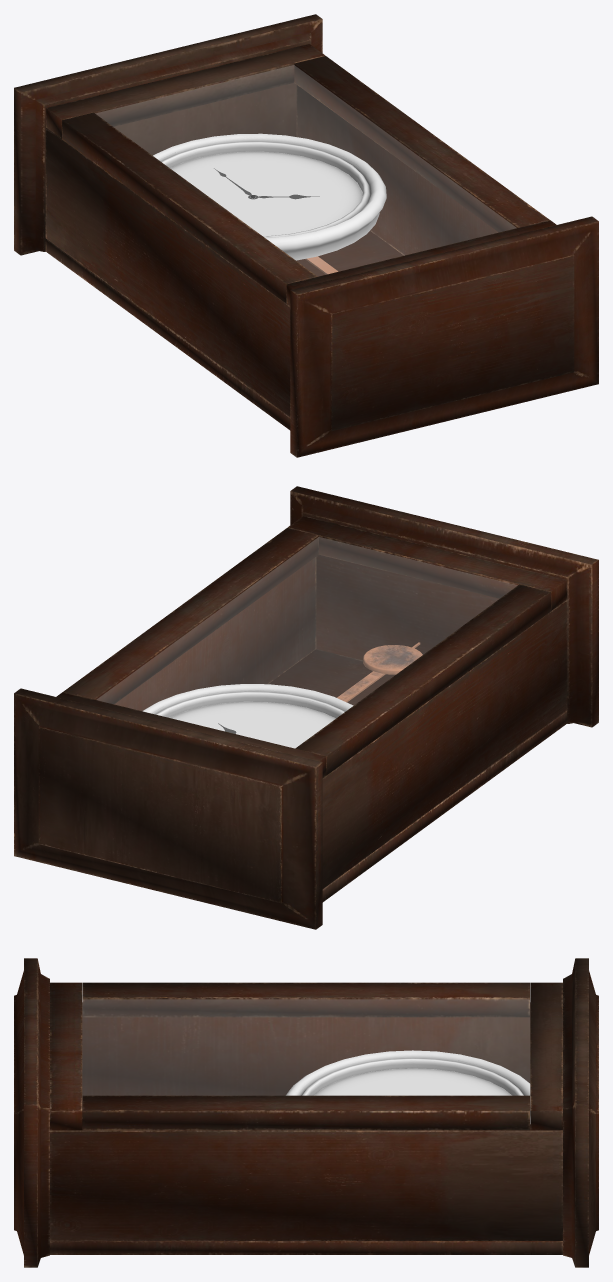
The model's file is dongho1.glb.
3 renders of one model, top to bottom at view 1: azimuth 30°, elevation 25°; view 2: azimuth 150°, elevation 25°; view 3: azimuth 270°, elevation 25°, orthographic.
Visible parts, largest first — view 1: body, glass, Cylinder; view 2: body, glass, Cylinder, pendulum; view 3: body, glass, Cylinder.
Part boxes in pixels (x1=…): body: x1=14, y1=14, x2=598, y2=457; glass: x1=96, y1=65, x2=515, y2=276; Cylinder: x1=153, y1=133, x2=386, y2=260; body: x1=14, y1=486, x2=598, y2=929; glass: x1=97, y1=537, x2=516, y2=747; Cylinder: x1=142, y1=684, x2=353, y2=748; pendulum: x1=337, y1=642, x2=422, y2=702; body: x1=14, y1=958, x2=598, y2=1267; glass: x1=82, y1=999, x2=529, y2=1095; Cylinder: x1=286, y1=1050, x2=530, y2=1123.
Size of the model in its own units: 0.2604 by 0.1342 by 0.438.
Materials: 6 (4 with a texture image).
